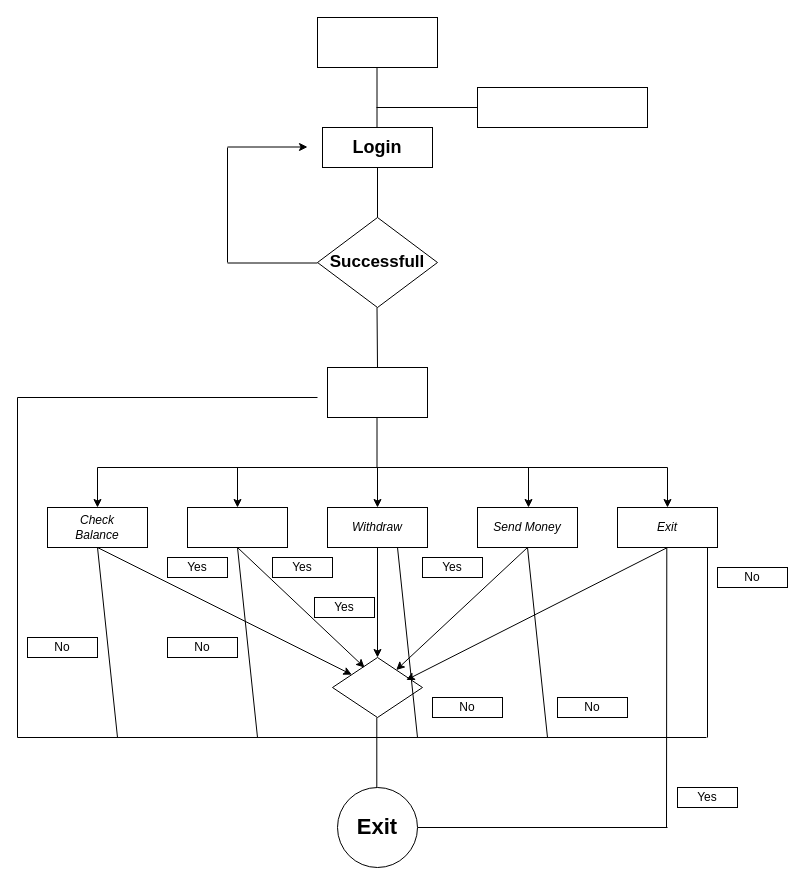
Image size: 805x885. Some labels were removed from this diagram. The centre of each missing label's shape, as x and y in pixels:
Another Transaction: (377,687)
Create Account: (562,107)
Deposit: (237,527)
Main Menu: (377,392)
Start: (377,42)
